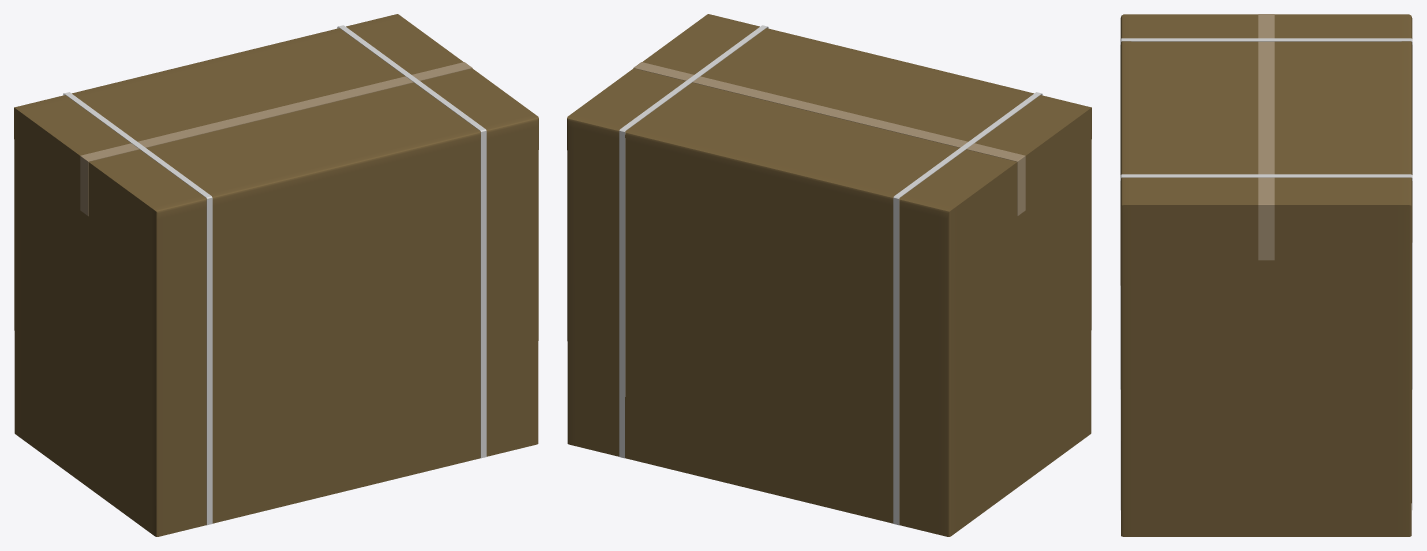
Rendered from KM-2600SWJ3-Machine.fbx.
The picture shows the model from 3 angles, left to right: view 1: azimuth 30°, elevation 25°; view 2: azimuth 150°, elevation 25°; view 3: azimuth 270°, elevation 25°; orthographic projection.
Visible parts, largest first — view 1: CardboardBox, tape1, tag1, tag2; view 2: CardboardBox, tape1, tag1, tag2; view 3: CardboardBox, tape1, tag2, tag1.
Part boxes in pixels (left/top/right/bottom): CardboardBox: left=14, top=14, right=538, bottom=536; tape1: left=80, top=62, right=472, bottom=215; tag1: left=63, top=92, right=212, bottom=525; tag2: left=337, top=25, right=486, bottom=458; CardboardBox: left=567, top=14, right=1091, bottom=536; tape1: left=633, top=62, right=1025, bottom=215; tag1: left=893, top=92, right=1042, bottom=525; tag2: left=619, top=25, right=768, bottom=458; CardboardBox: left=1120, top=14, right=1412, bottom=536; tape1: left=1258, top=14, right=1274, bottom=260; tag2: left=1120, top=174, right=1412, bottom=509; tag1: left=1120, top=38, right=1412, bottom=174.
Bounding box in the file's own units: 133 × 108 × 86.14.
